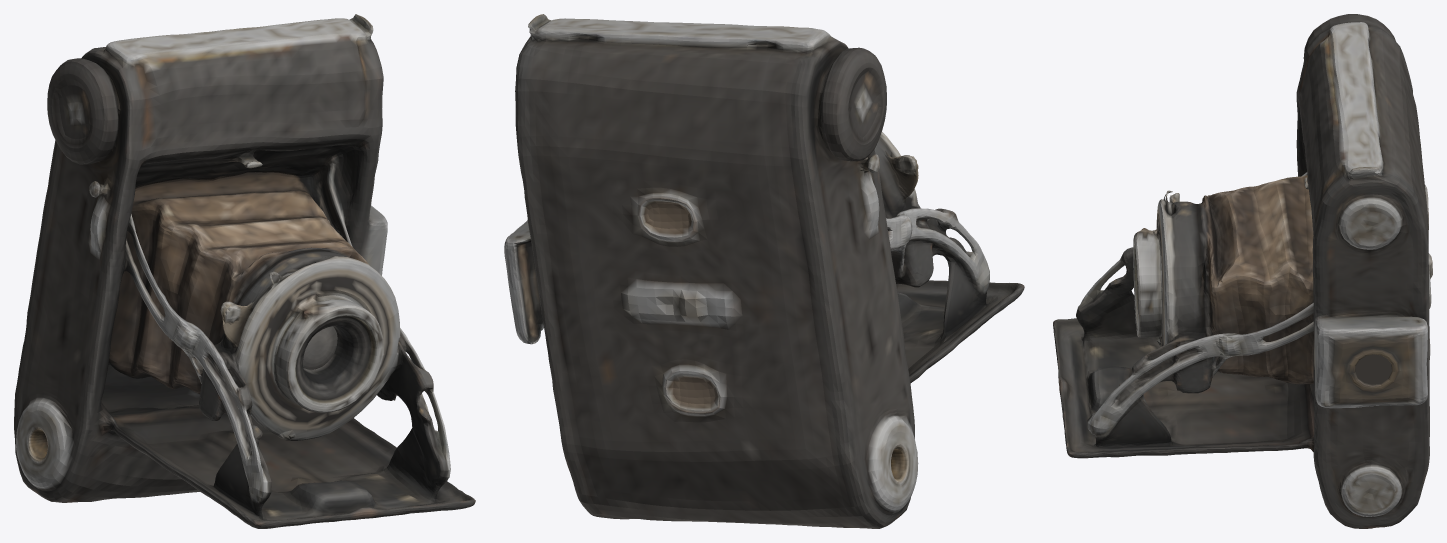
Rendered from Sketchfab Camera.obj.
3 views of the same model, side by side, from view 1: azimuth 30°, elevation 25°; view 2: azimuth 150°, elevation 25°; view 3: azimuth 270°, elevation 25° (orthographic). The views are drawn at different scales.
Visible parts, largest first — view 1: default; view 2: default; view 3: default.
Part boxes in pixels (left/top/right/bottom): default: left=14, top=14, right=475, bottom=528; default: left=504, top=14, right=1024, bottom=528; default: left=1053, top=14, right=1432, bottom=528.
Bounding box in the file's own units: 16.44 × 22 × 17.73.
